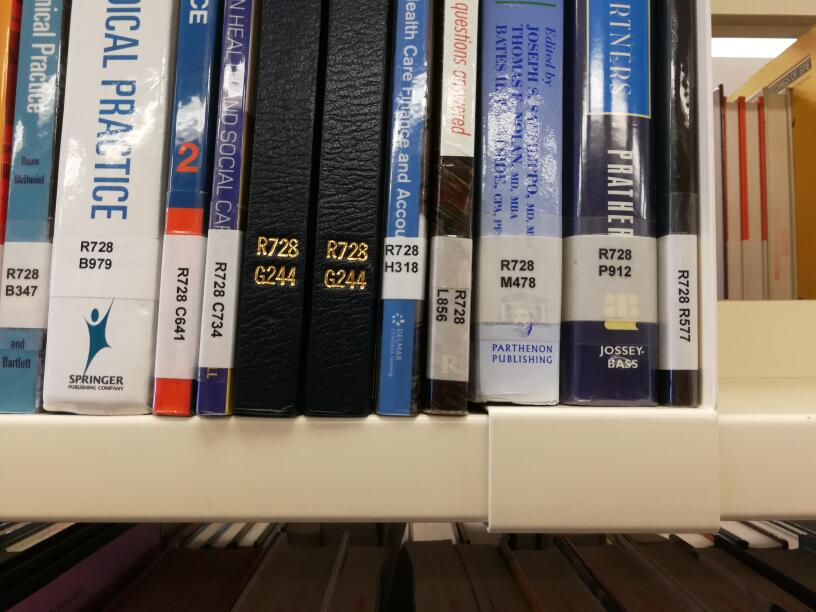booklabel: (252, 235, 303, 290), (322, 238, 371, 292), (209, 259, 226, 338), (434, 283, 465, 326), (173, 266, 190, 343), (498, 258, 537, 288), (77, 239, 114, 270), (677, 268, 692, 344), (384, 242, 418, 275), (4, 267, 38, 297), (598, 247, 632, 277)
